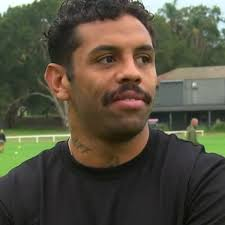No-Glasses: (74, 46, 164, 73)
